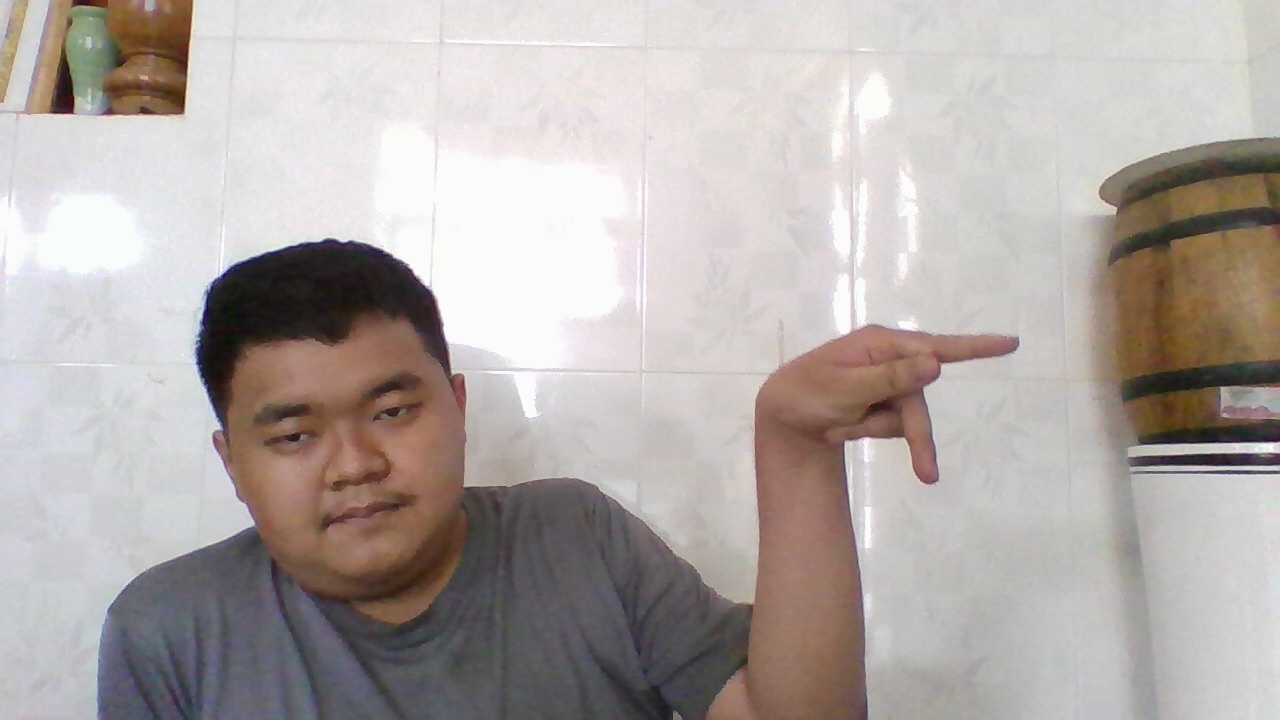P: (765, 324, 1024, 471)
